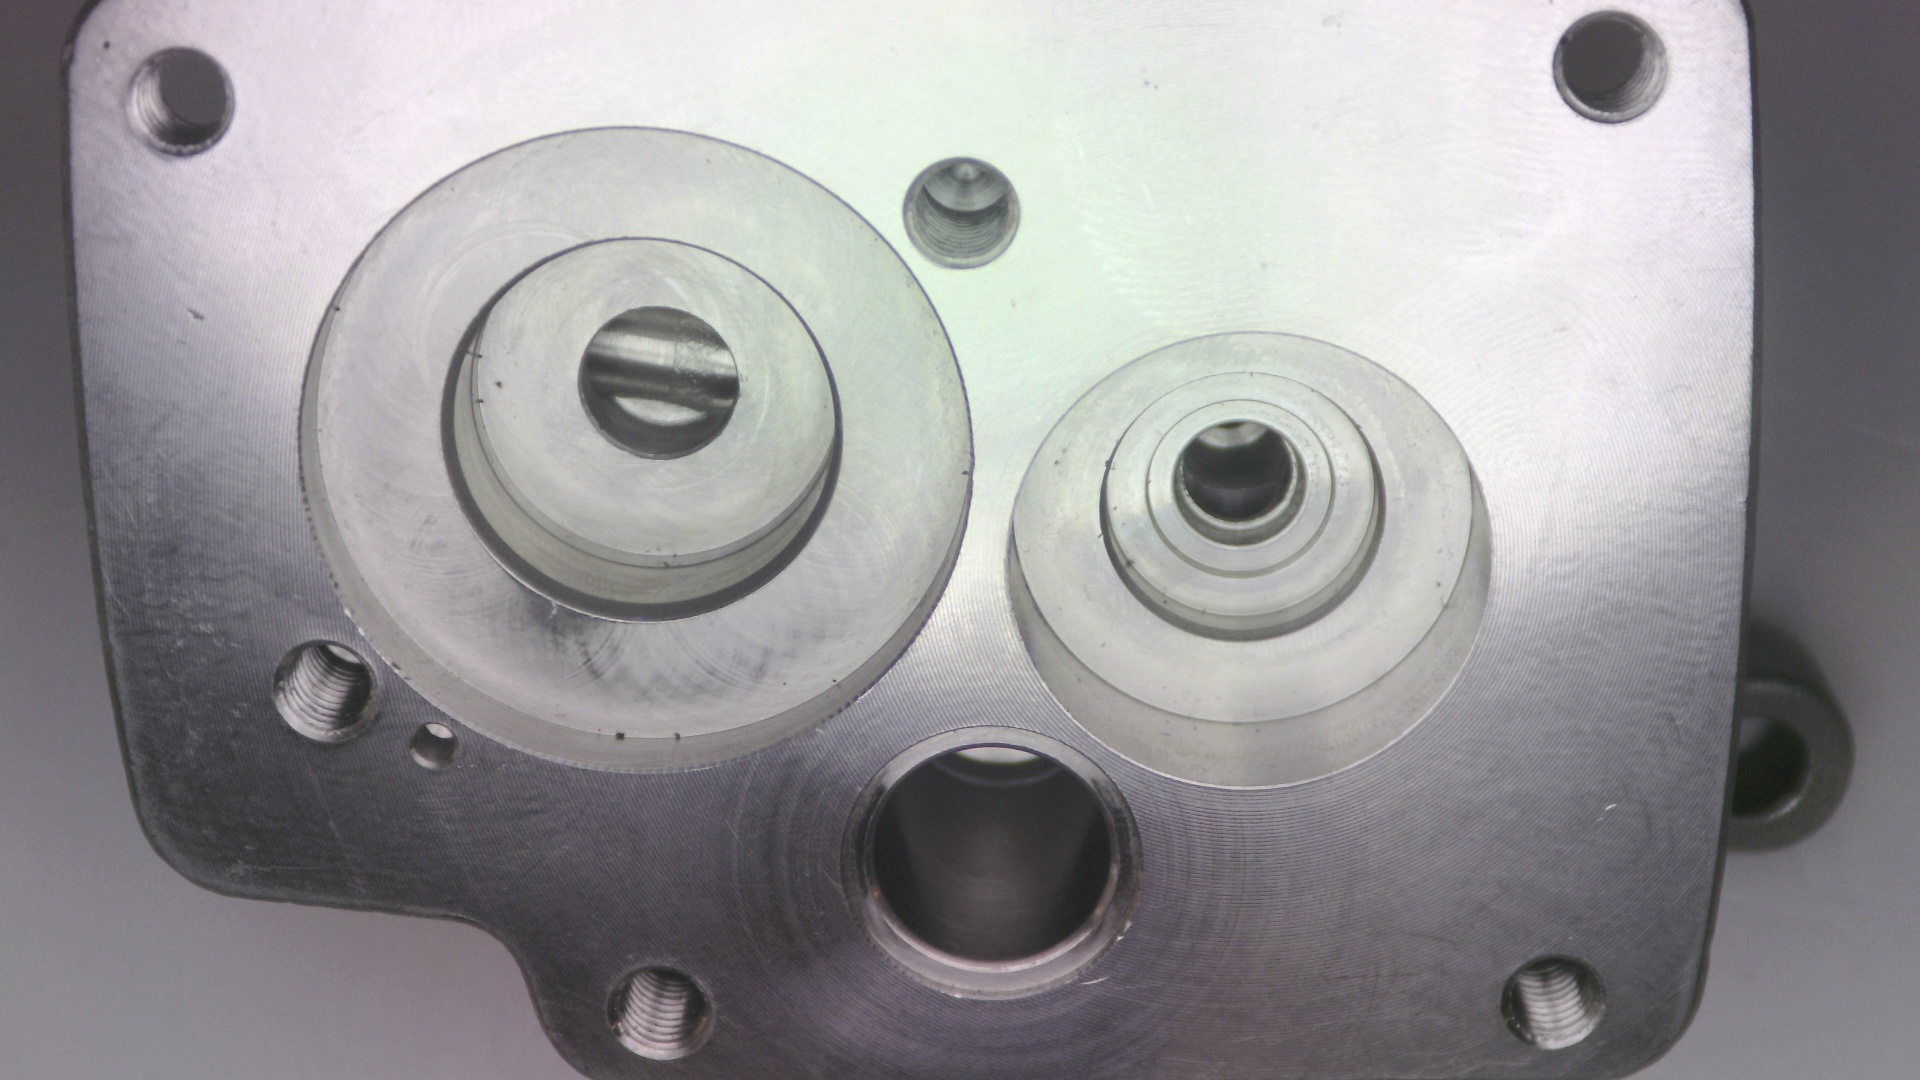chamfer_absence: (1218, 884, 1404, 926)
